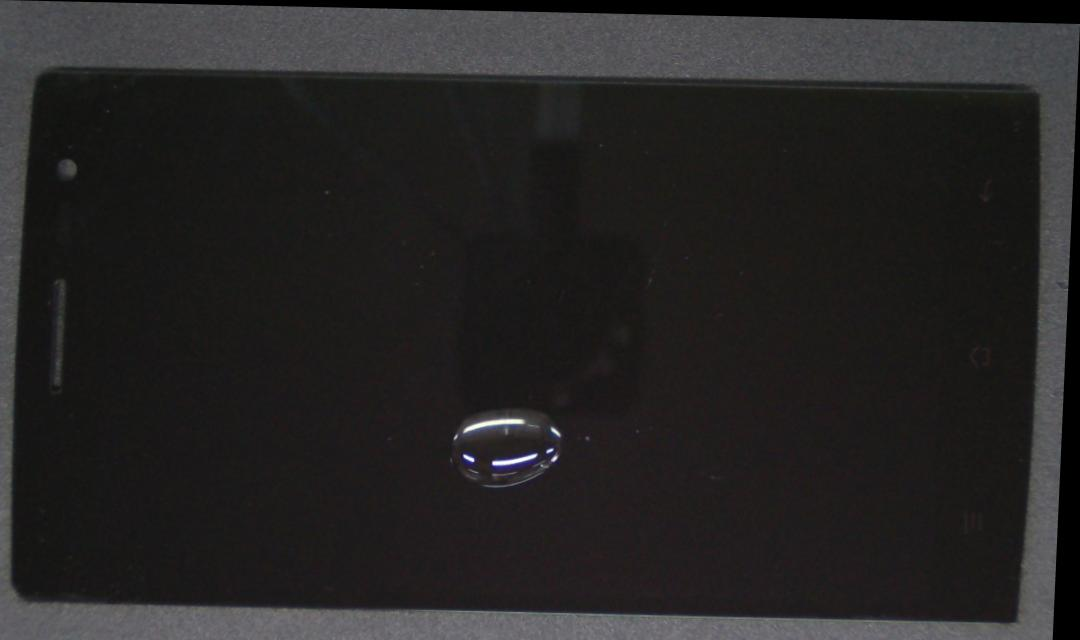oil: (425, 367, 593, 533)
